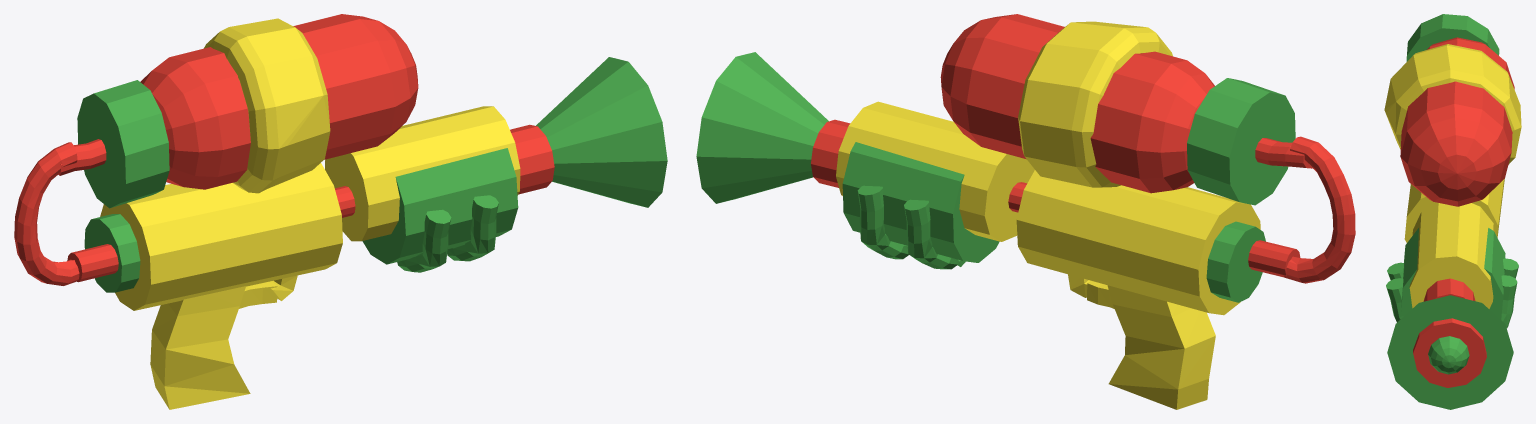
3 views of the same model, side by side, from view 1: azimuth 30°, elevation 25°; view 2: azimuth 150°, elevation 25°; view 3: azimuth 270°, elevation 25° (orthographic). The views are drawn at different scales.
Size of the model in its own units: 0.5704 by 0.2986 by 0.13.
